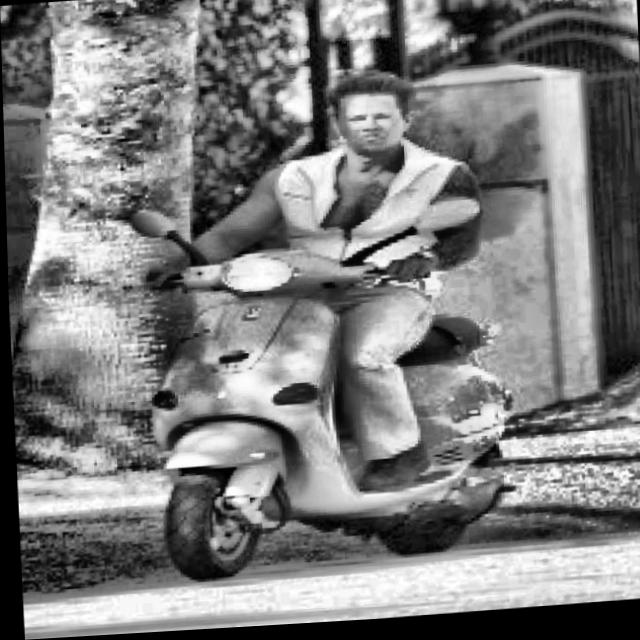motorcycle: (114, 172, 531, 596)
